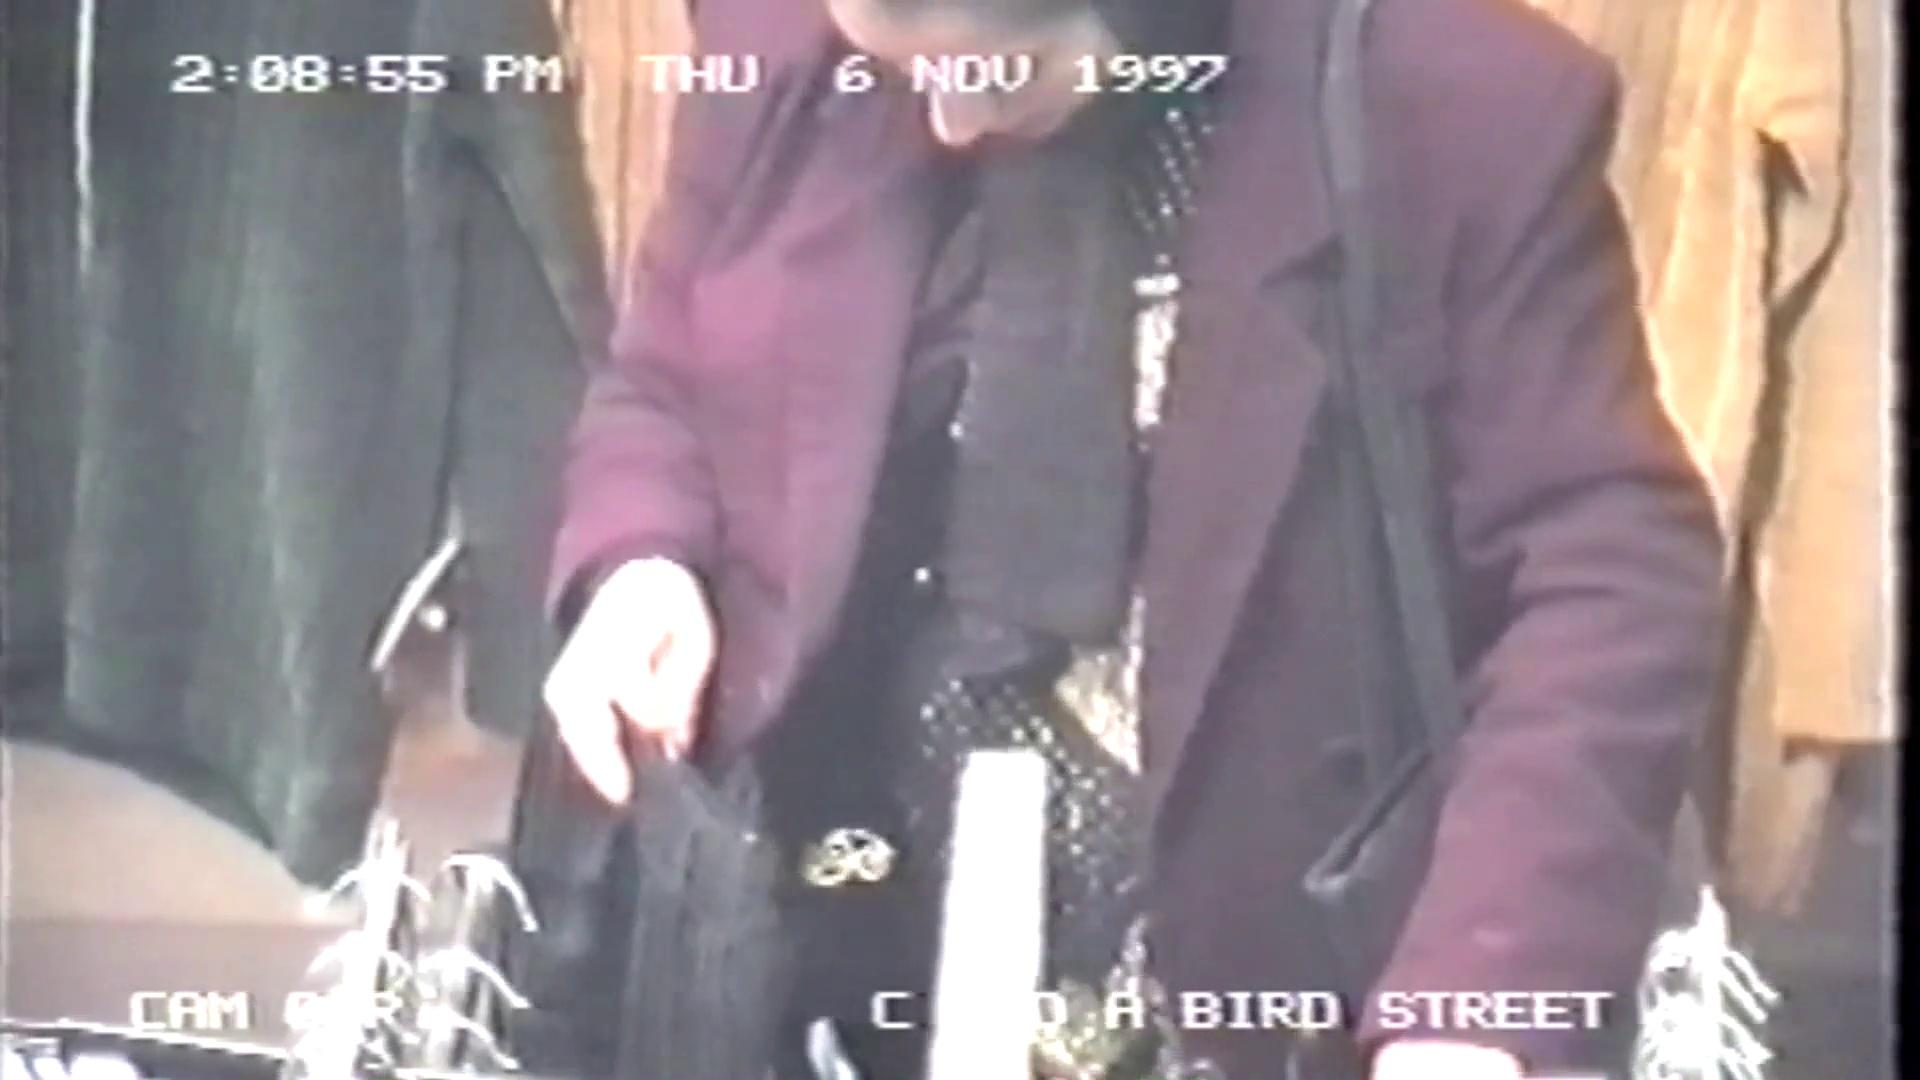1: (480, 644, 872, 1080)
2: (382, 0, 1908, 1080)
persone: (1245, 728, 1783, 1080)
